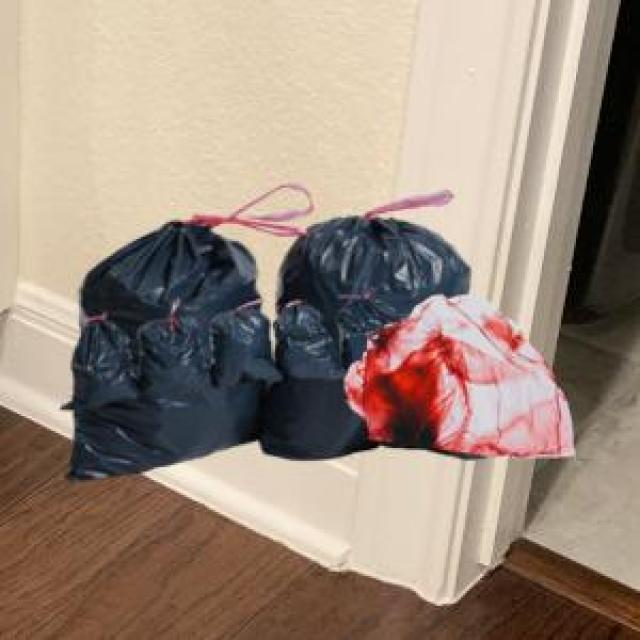miscellaneous trash: (62, 186, 477, 476), (58, 290, 397, 405)
